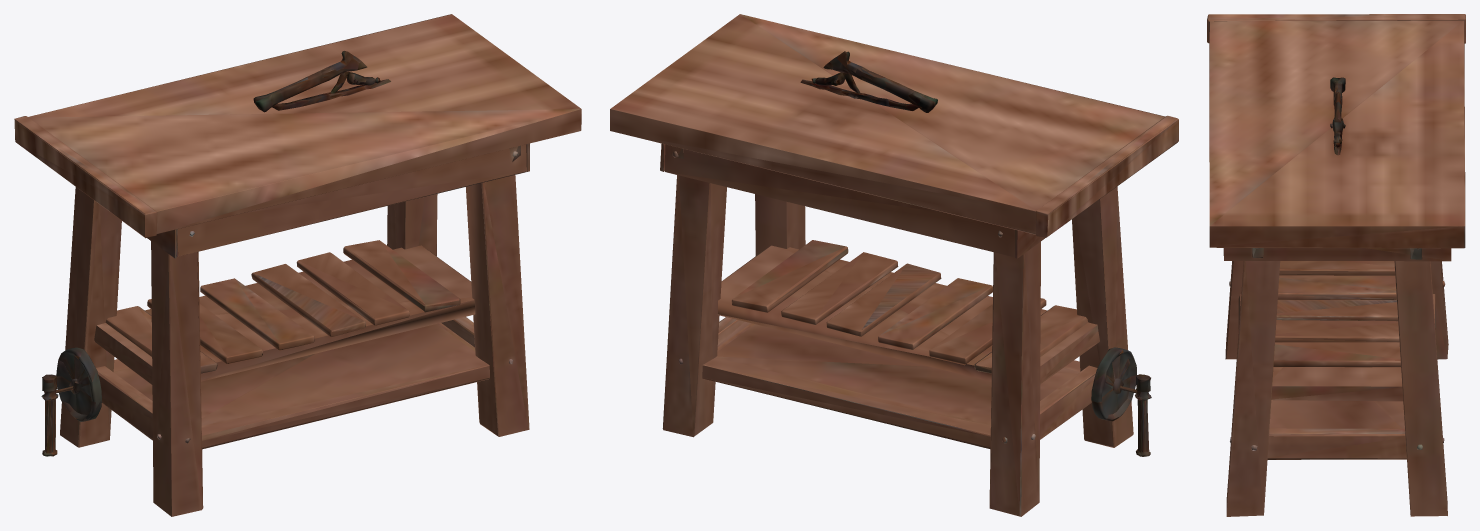
File: workbench.lod1.glb
3 views of the same model, side by side, from view 1: azimuth 30°, elevation 25°; view 2: azimuth 150°, elevation 25°; view 3: azimuth 270°, elevation 25° (orthographic).
Size of the model in its own units: 1.24 by 0.9176 by 0.5944.
Materials: 1 (1 with a texture image).
